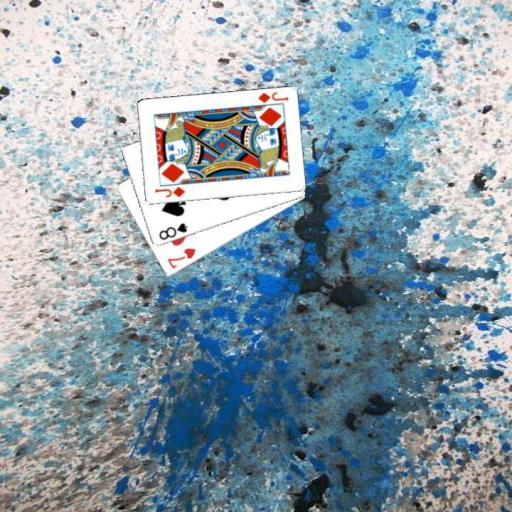7H: (164, 245, 197, 270)
8S: (156, 220, 188, 242)
JD: (152, 184, 187, 199), (255, 89, 290, 104)
